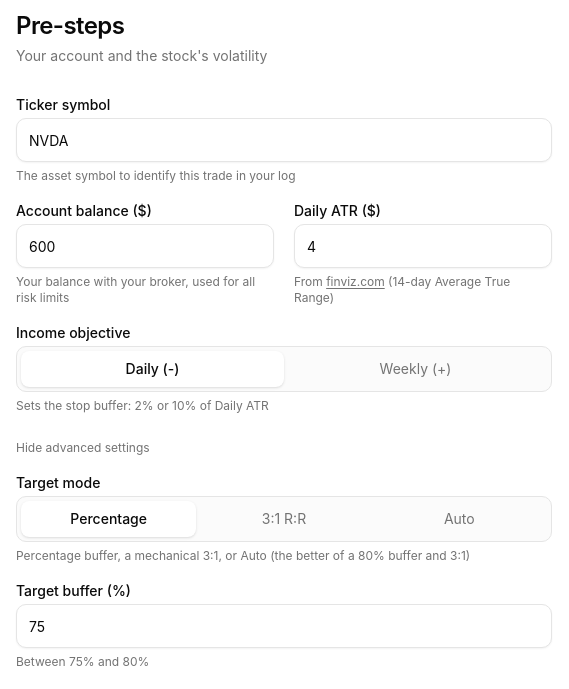
Test case: given the advanced settings caps › given a mechanical target mode: should collapse the target buffer field
Expected: the number field labelled "Target buffer (%)" is shown, left=16, top=604, right=552, bottom=648
Click the radio button labelled "Auto". click: (459, 519)
box: left=372, top=501, right=547, bottom=537
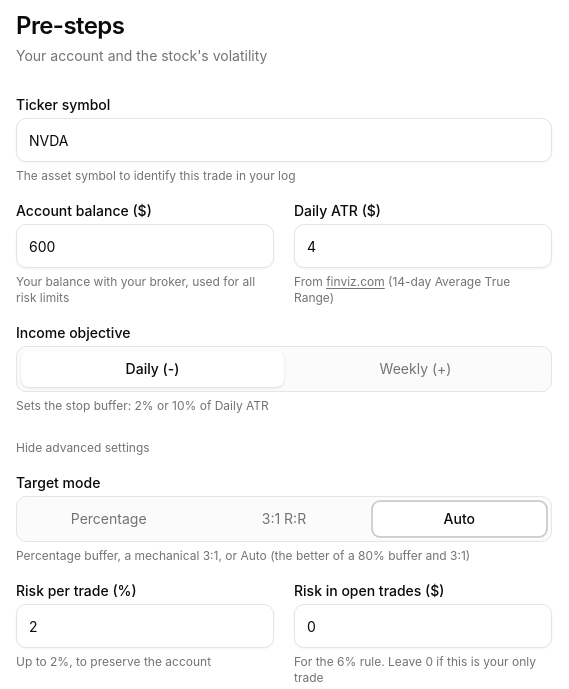
Result: the label labelled "Target buffer (%)" is gone
Click the radio button named "3:1 R:R, 3 to 1 reward to risk". click: (284, 519)
box: left=196, top=501, right=372, bottom=537
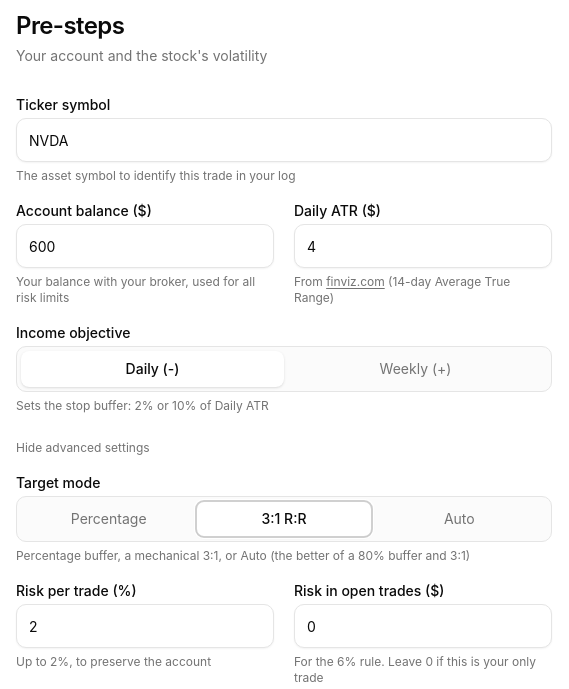
Expected: the label labelled "Target buffer (%)" is not shown
Click the radio button labelled "Percentage". click: (109, 519)
box: left=21, top=501, right=196, bottom=537
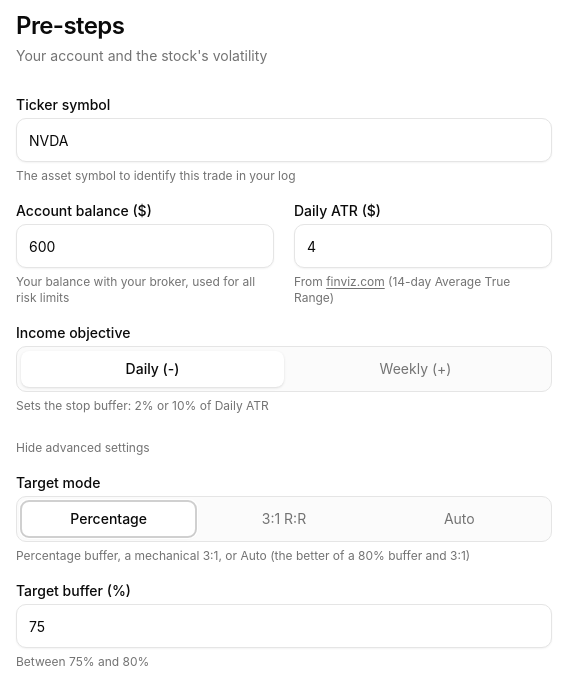
Result: the number field labelled "Target buffer (%)" is shown at left=16, top=604, right=552, bottom=648
